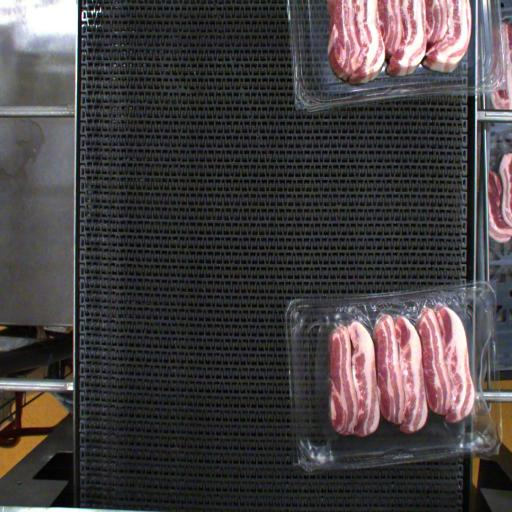unsealed: (298, 289, 488, 444)
